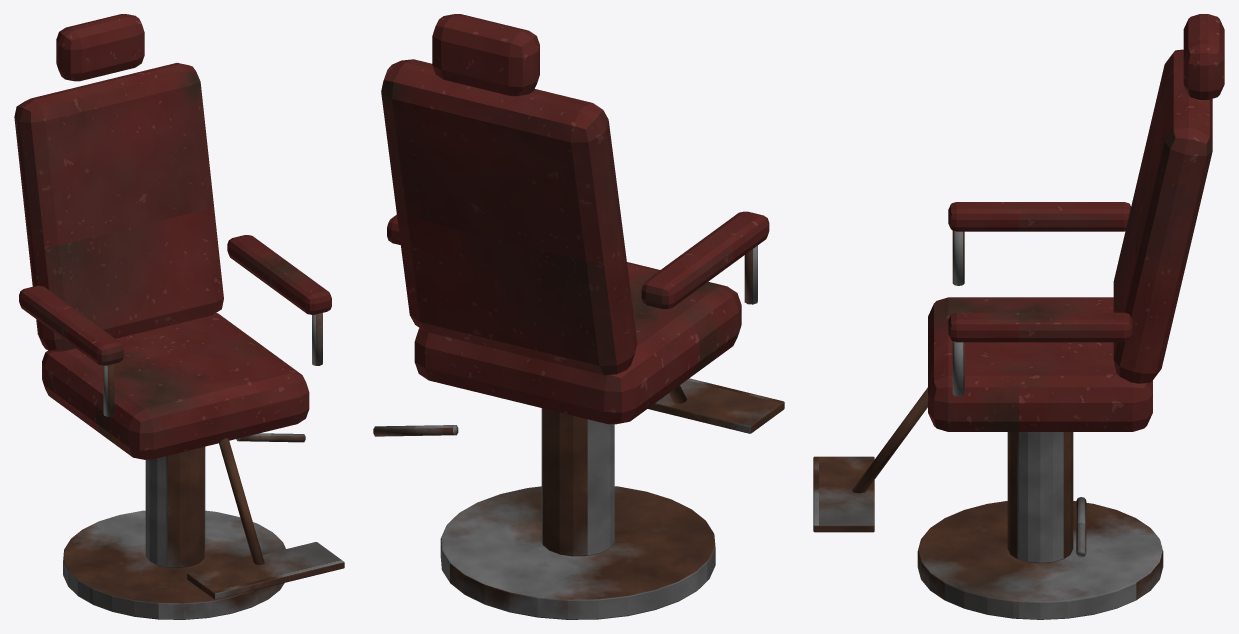
File: W05_barber_chair.glb
The picture shows the model from 3 angles, left to right: view 1: azimuth 30°, elevation 25°; view 2: azimuth 150°, elevation 25°; view 3: azimuth 270°, elevation 25°; orthographic projection. The views are drawn at different scales.
Parts seen in each view (by area): view 1: W05_barber_chair; view 2: W05_barber_chair; view 3: W05_barber_chair.
Part boxes in pixels (x1=…): W05_barber_chair: x1=14, y1=14, x2=344, y2=619; W05_barber_chair: x1=373, y1=14, x2=784, y2=619; W05_barber_chair: x1=813, y1=14, x2=1224, y2=619.
Size of the model in its own units: 0.5587 by 1 by 0.6907.
2 materials, 2 textured.
